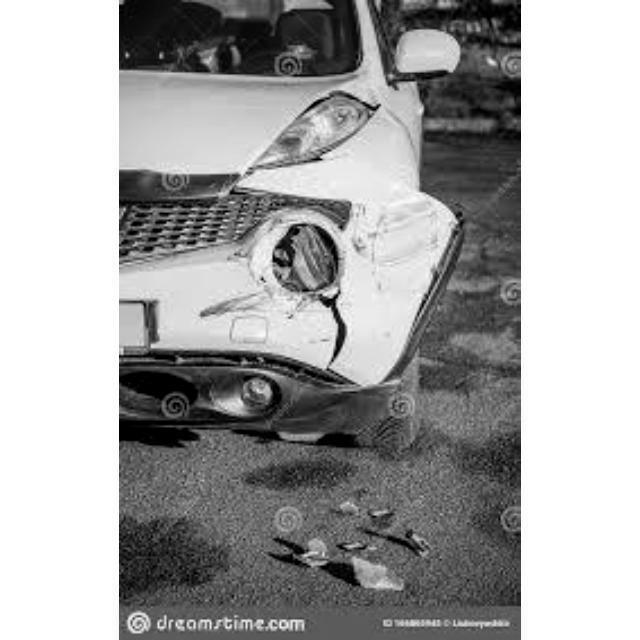front-bumper-dent: (120, 188, 479, 420)
